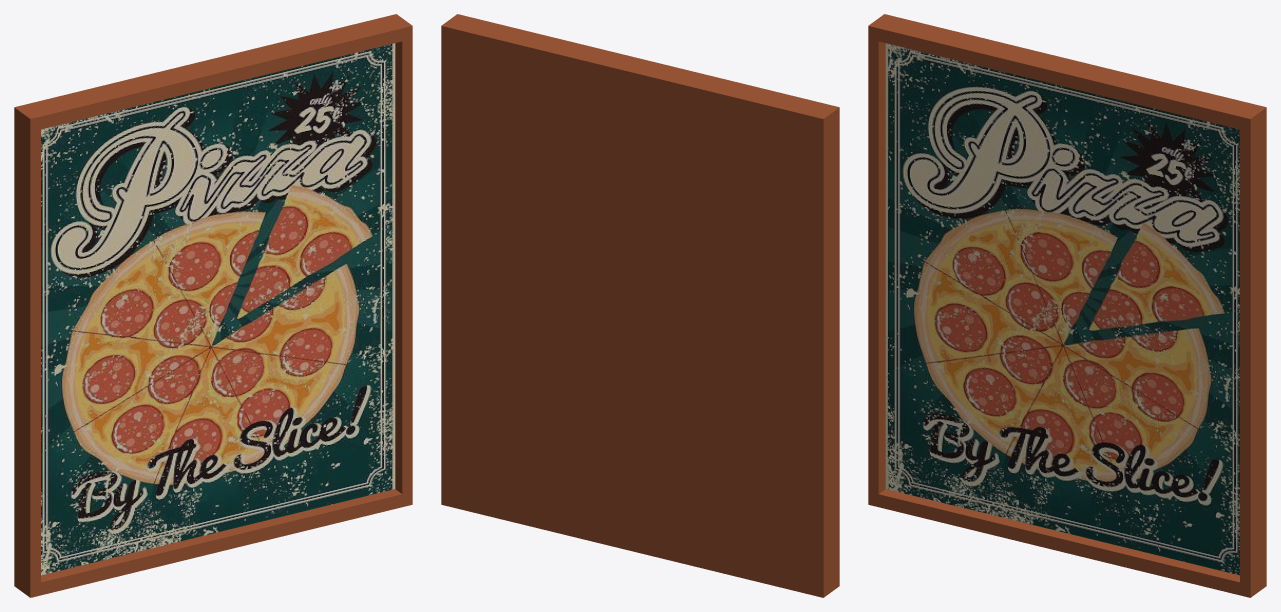
File: italian_paint_b.fbx
3 views of the same model, side by side, from view 1: azimuth 30°, elevation 25°; view 2: azimuth 150°, elevation 25°; view 3: azimuth 330°, elevation 25° (orthographic).
Visible parts, largest first — view 1: Cube.008; view 2: Cube.008; view 3: Cube.008.
Part boxes in pixels (<box>): Cube.008: <box>14,14,412,597</box>; Cube.008: <box>441,14,839,597</box>; Cube.008: <box>868,14,1266,597</box>.
Size of the model in its own units: 27.36 by 32.75 by 2.01.
